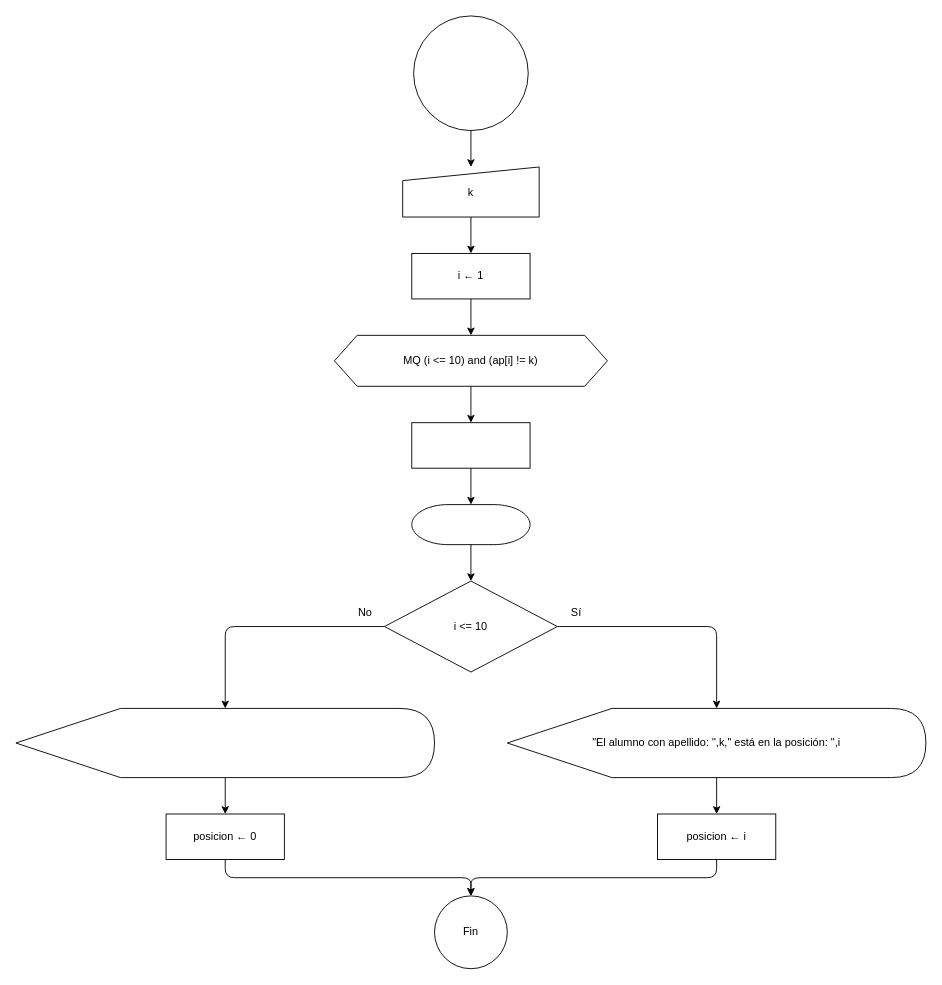
Image size: 942x985. Some labels were removed from this diagram. The shapes that lost their labels are listed below. From the top down, each one's centre as x and y in pixels, then its label:
pixel 470 73: BuscarAlumno
pixel 470 445: i ← i + 1
pixel 470 524: Fin (MQ)
pixel 225 743: "El alumno con apellido: ",k," no está registrado en este curso."
